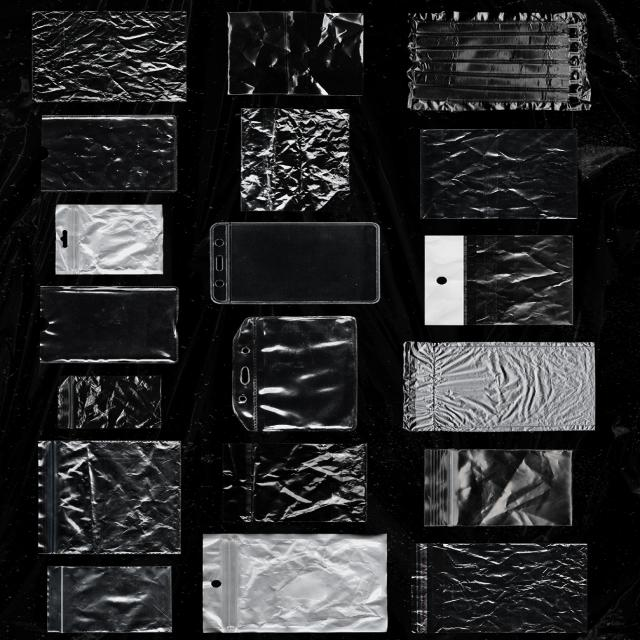Single-layer Plastic: (407, 11, 590, 111), (203, 534, 387, 632), (404, 341, 595, 431), (40, 441, 181, 554), (412, 544, 586, 632), (232, 316, 357, 431), (420, 129, 578, 219), (33, 11, 188, 101), (211, 222, 379, 304), (425, 235, 573, 325), (423, 449, 572, 526), (229, 11, 364, 95), (222, 444, 366, 522), (240, 109, 349, 211), (40, 286, 178, 363), (41, 115, 176, 192), (48, 566, 171, 632), (56, 205, 163, 274), (58, 376, 161, 429)
